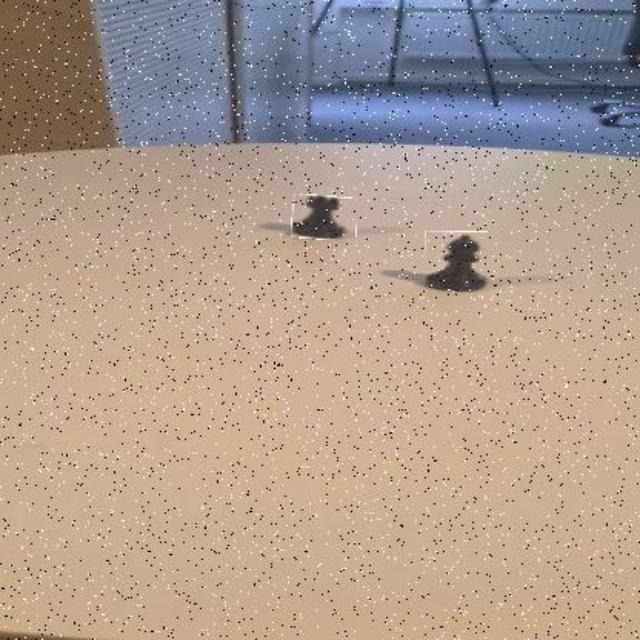black-bishop: (425, 230, 489, 293)
black-rook: (292, 195, 358, 241)
